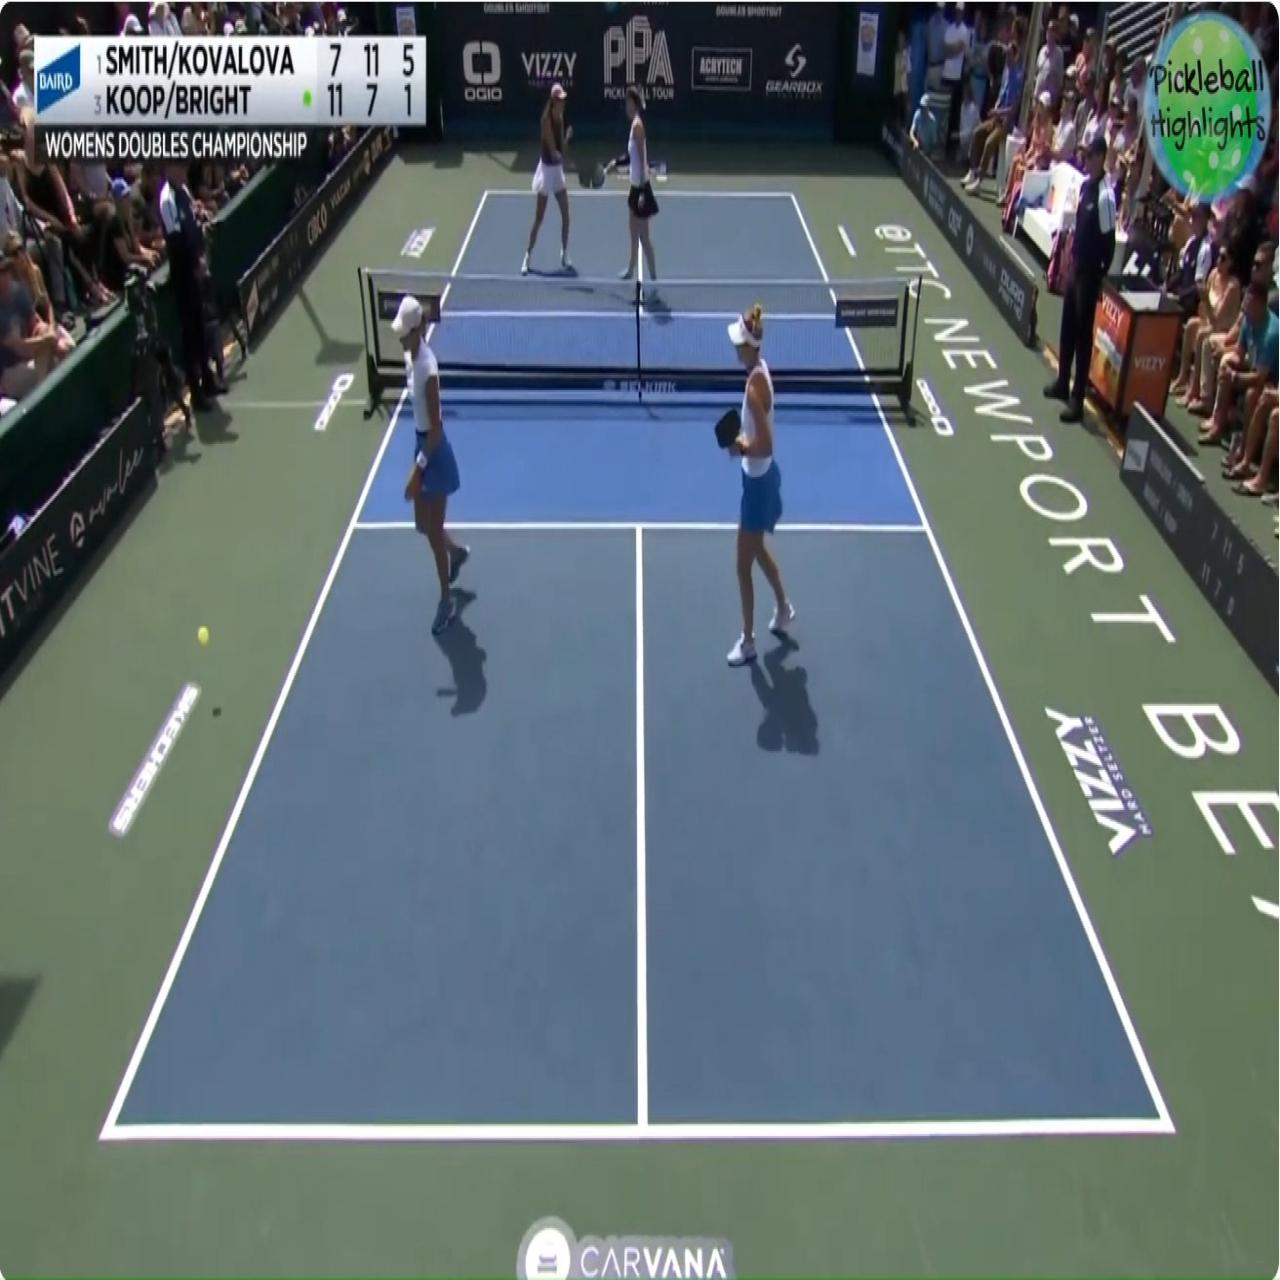pickleball: (197, 626, 210, 645)
